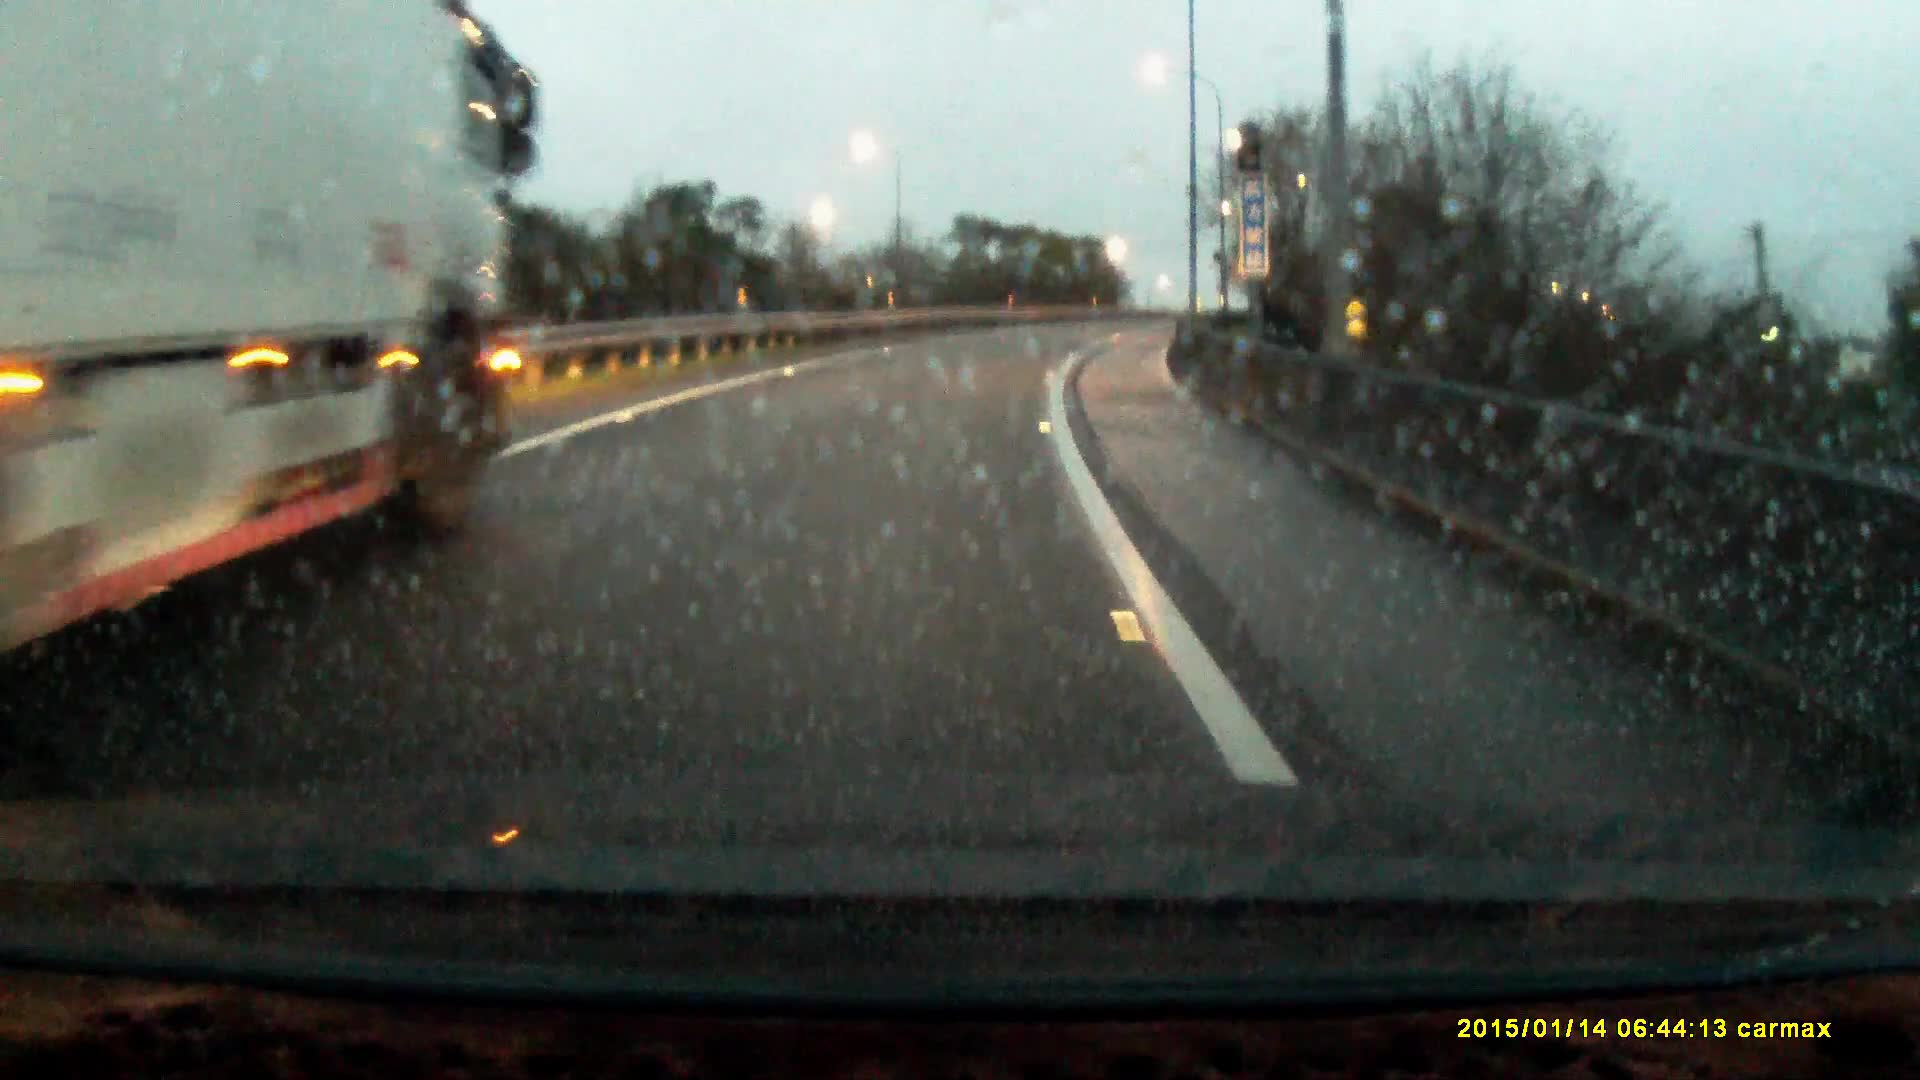vehicle: (1, 1, 543, 647)
